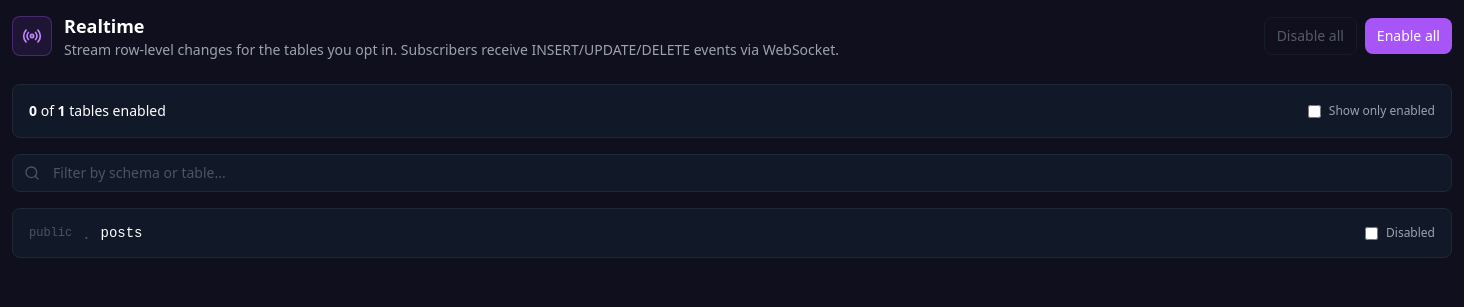
Test case: RealtimePage — refusals › a refused per-table toggle shows the reason
Click the checkbox with test id "realtime-toggle-public-posts" at (1372, 233), box [1365, 226, 1378, 240]
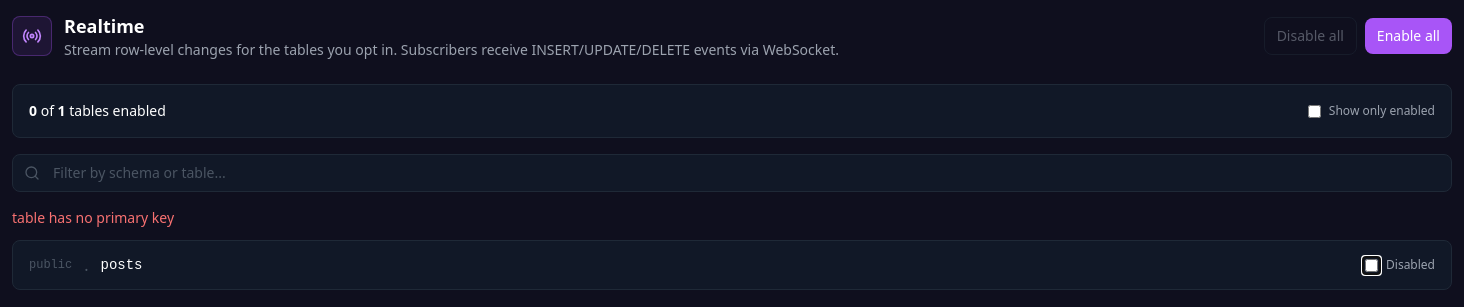
expect the message with test id "realtime-error" reads "table has no primary key": met, box [12, 208, 174, 227]
